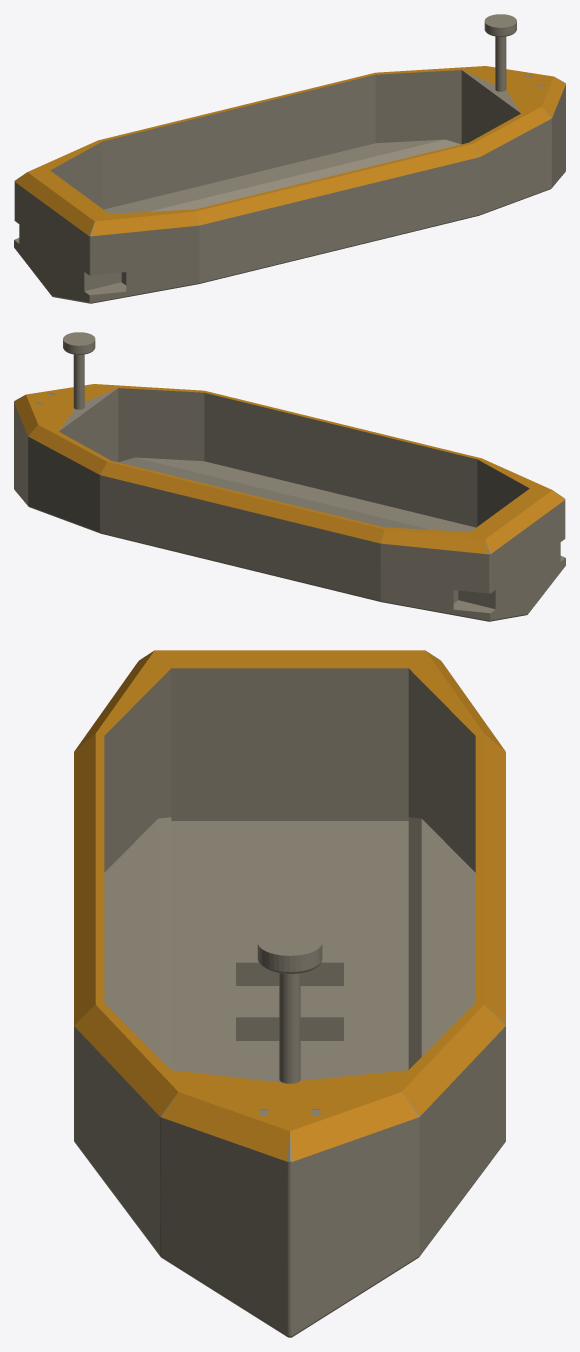
Rendered from ROS_SHIP.dae.
3 renders of one model, top to bottom at view 1: azimuth 30°, elevation 25°; view 2: azimuth 150°, elevation 25°; view 3: azimuth 270°, elevation 25°, orthographic. The views are drawn at different scales.
Visible parts, largest first — view 1: ROS_SHIP; view 2: ROS_SHIP; view 3: ROS_SHIP.
Boxes of the visible parts, box(x1,y1,x2,y2) form: ROS_SHIP: box(14, 14, 565, 303); ROS_SHIP: box(14, 332, 565, 621); ROS_SHIP: box(74, 650, 505, 1337).
Size of the model in its own units: 2.75 by 1 by 0.85.
